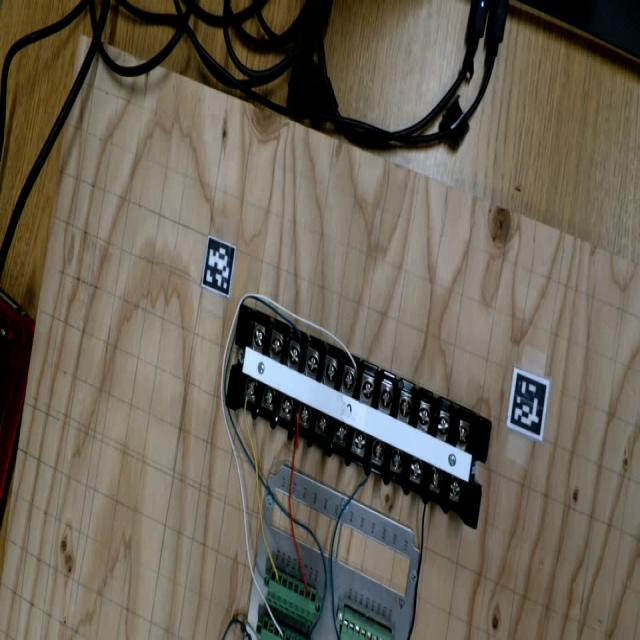Phillips_Block: (198, 299, 521, 529)
Terminal_2: (256, 566, 328, 627), (260, 616, 308, 639)
